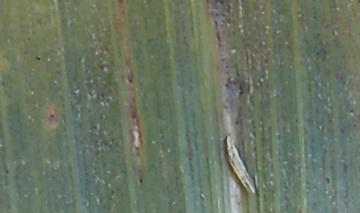tarspot: (238, 86, 244, 95), (138, 175, 143, 184), (4, 169, 10, 175), (127, 78, 133, 84), (49, 112, 54, 119), (235, 119, 240, 126), (35, 56, 41, 61), (326, 177, 331, 183)
